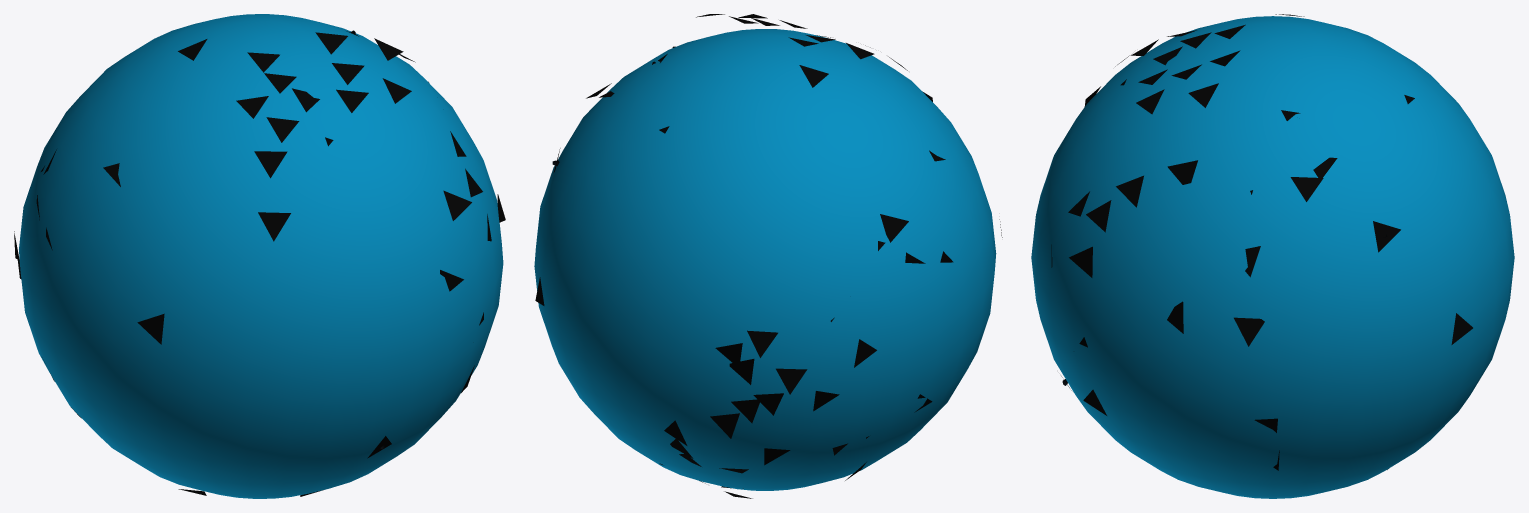
Rendered from SpherePalm.fbx.
The picture shows the model from 3 angles, left to right: view 1: azimuth 30°, elevation 25°; view 2: azimuth 150°, elevation 25°; view 3: azimuth 270°, elevation 25°; orthographic projection. The views are drawn at different scales.
Parts seen in each view (by area): view 1: SpherePalm; view 2: SpherePalm; view 3: SpherePalm.
Part boxes in pixels (x1,y1,x2,y2): SpherePalm: (14, 14, 505, 498); SpherePalm: (534, 14, 1002, 498); SpherePalm: (1031, 14, 1514, 498).
Bounding box in the file's own units: 1.01 × 1.03 × 1.
